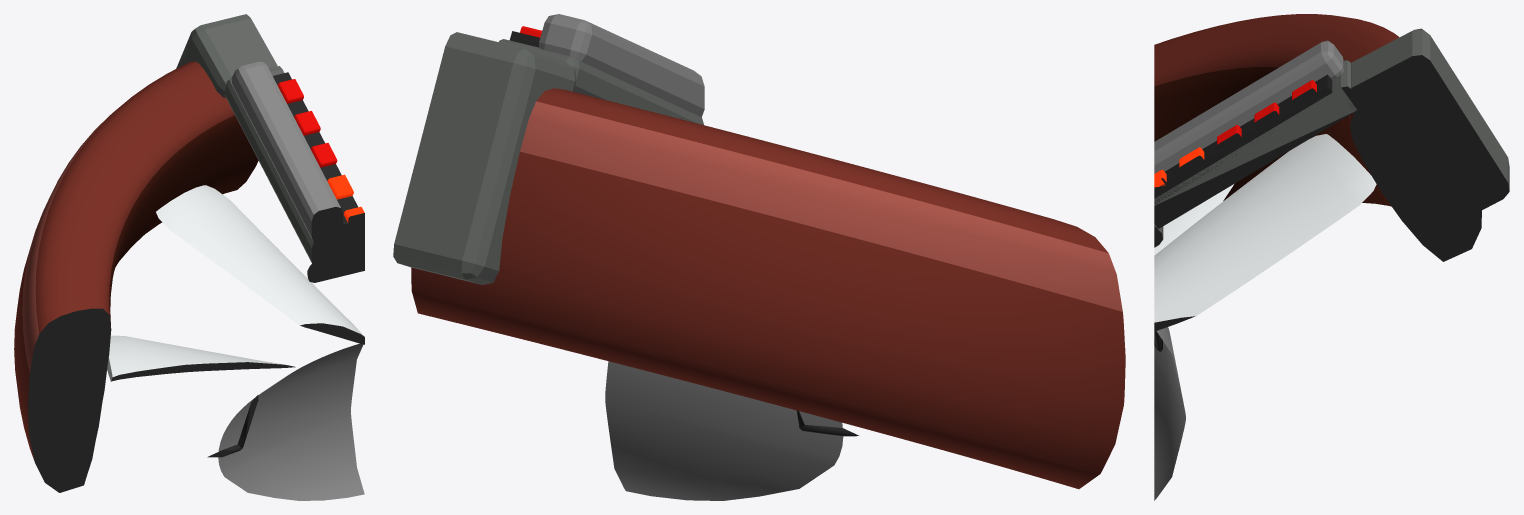
Rendered from zeppelin_17.glb.
The picture shows the model from 3 angles, left to right: view 1: azimuth 30°, elevation 25°; view 2: azimuth 150°, elevation 25°; view 3: azimuth 270°, elevation 25°; orthographic projection. The views are drawn at different scales.
Visible parts, largest first — view 1: duct.001, cowl.001, blade_2.001, bridge_rail_l.001, blade_3.001, bridge_clamp.001, bridge_base.001, bridge_channel.001, bridge_foot.001, cowl_seam_l.001, lamp_1.001, lamp_0.001 (+2 smaller); view 2: duct.001, bridge_clamp.001, cowl.001, bridge_rail_l.001, bridge_base.001; view 3: duct.001, bridge_clamp.001, blade_2.001, bridge_base.001, bridge_rail_l.001, cowl.001, bridge_channel.001, blade_3.001, lamp_3.001, lamp_1.001, lamp_2.001, lamp_0.001.
Boxes of the visible parts, x1=… form: duct.001: x1=14, y1=61, x2=258, y2=492; cowl.001: x1=218, y1=343, x2=364, y2=500; blade_2.001: x1=156, y1=185, x2=364, y2=344; bridge_rail_l.001: x1=231, y1=61, x2=343, y2=242; blade_3.001: x1=107, y1=335, x2=295, y2=381; bridge_clamp.001: x1=176, y1=14, x2=277, y2=97; bridge_base.001: x1=224, y1=66, x2=364, y2=267; bridge_channel.001: x1=273, y1=72, x2=364, y2=235; bridge_foot.001: x1=307, y1=250, x2=364, y2=282; cowl_seam_l.001: x1=207, y1=395, x2=258, y2=457; lamp_1.001: x1=294, y1=111, x2=320, y2=135; lamp_0.001: x1=277, y1=79, x2=303, y2=103; duct.001: x1=411, y1=88, x2=1125, y2=489; bridge_clamp.001: x1=393, y1=32, x2=575, y2=284; cowl.001: x1=605, y1=361, x2=843, y2=500; bridge_rail_l.001: x1=539, y1=14, x2=704, y2=117; bridge_base.001: x1=499, y1=39, x2=703, y2=124; duct.001: x1=1154, y1=14, x2=1481, y2=261; bridge_clamp.001: x1=1349, y1=28, x2=1509, y2=231; blade_2.001: x1=1154, y1=134, x2=1376, y2=331; bridge_base.001: x1=1154, y1=60, x2=1360, y2=230; bridge_rail_l.001: x1=1154, y1=40, x2=1343, y2=173; cowl.001: x1=1154, y1=327, x2=1185, y2=500; bridge_channel.001: x1=1154, y1=74, x2=1332, y2=203; blade_3.001: x1=1154, y1=184, x2=1233, y2=255; lamp_3.001: x1=1179, y1=147, x2=1204, y2=174; lamp_1.001: x1=1254, y1=102, x2=1279, y2=128; lamp_2.001: x1=1217, y1=125, x2=1241, y2=151; lamp_0.001: x1=1292, y1=80, x2=1316, y2=106.
Bounding box in the file's own units: 23.45 × 26.2 × 18.9.
